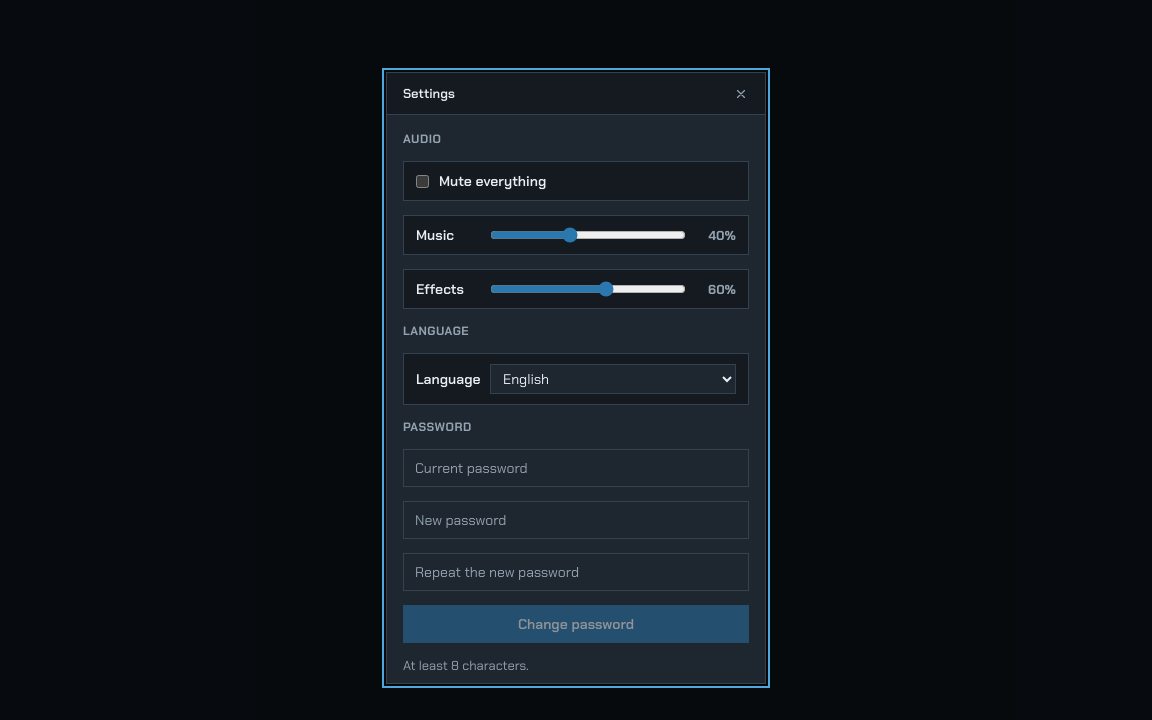
Scenario: SettingsModal › applies and persists a volume change
The image size is (1152, 720).
Set the slider labelled "Music" to "0.15" at (525, 235), box [490,227,686,243]
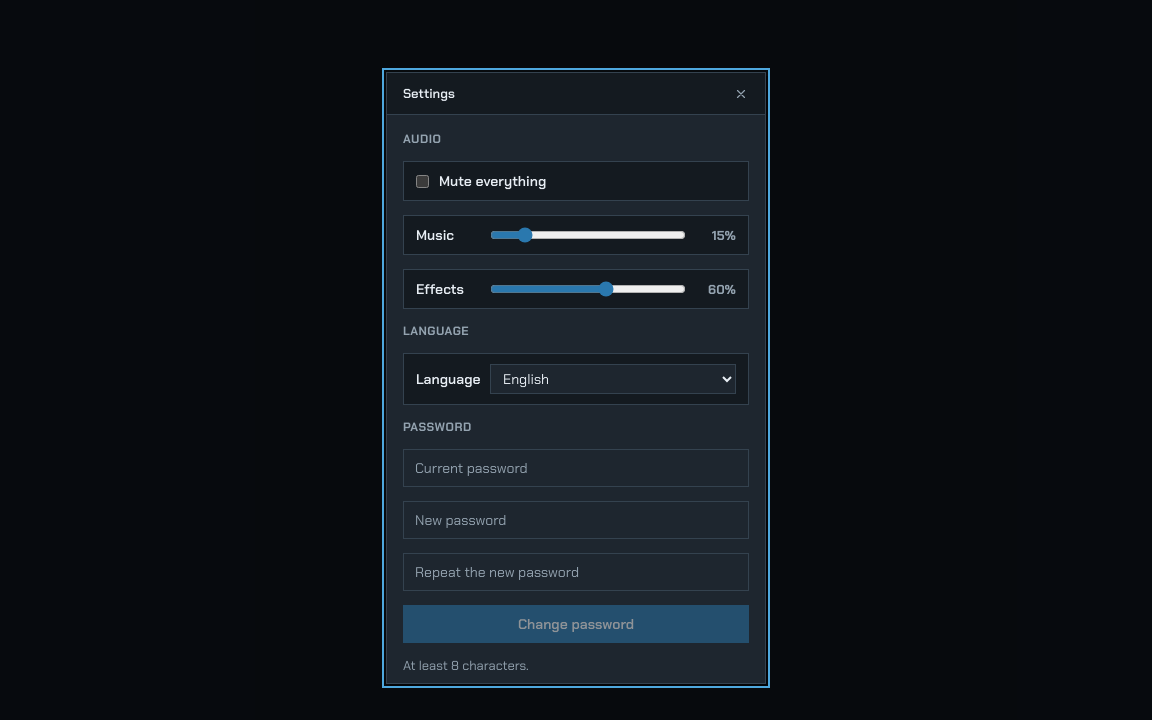
Check: the text "15%" is shown, box [712,226,736,244]
